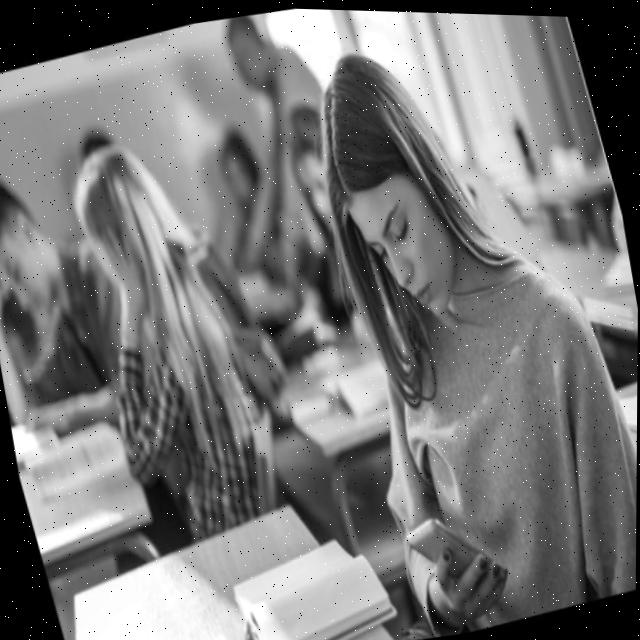phone: (400, 494, 513, 603)
